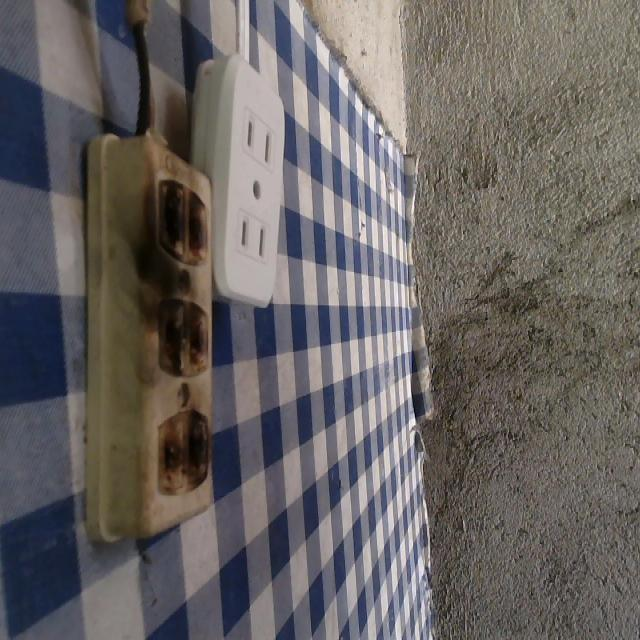-: (152, 406, 214, 498), (151, 178, 209, 266), (152, 296, 213, 377)
